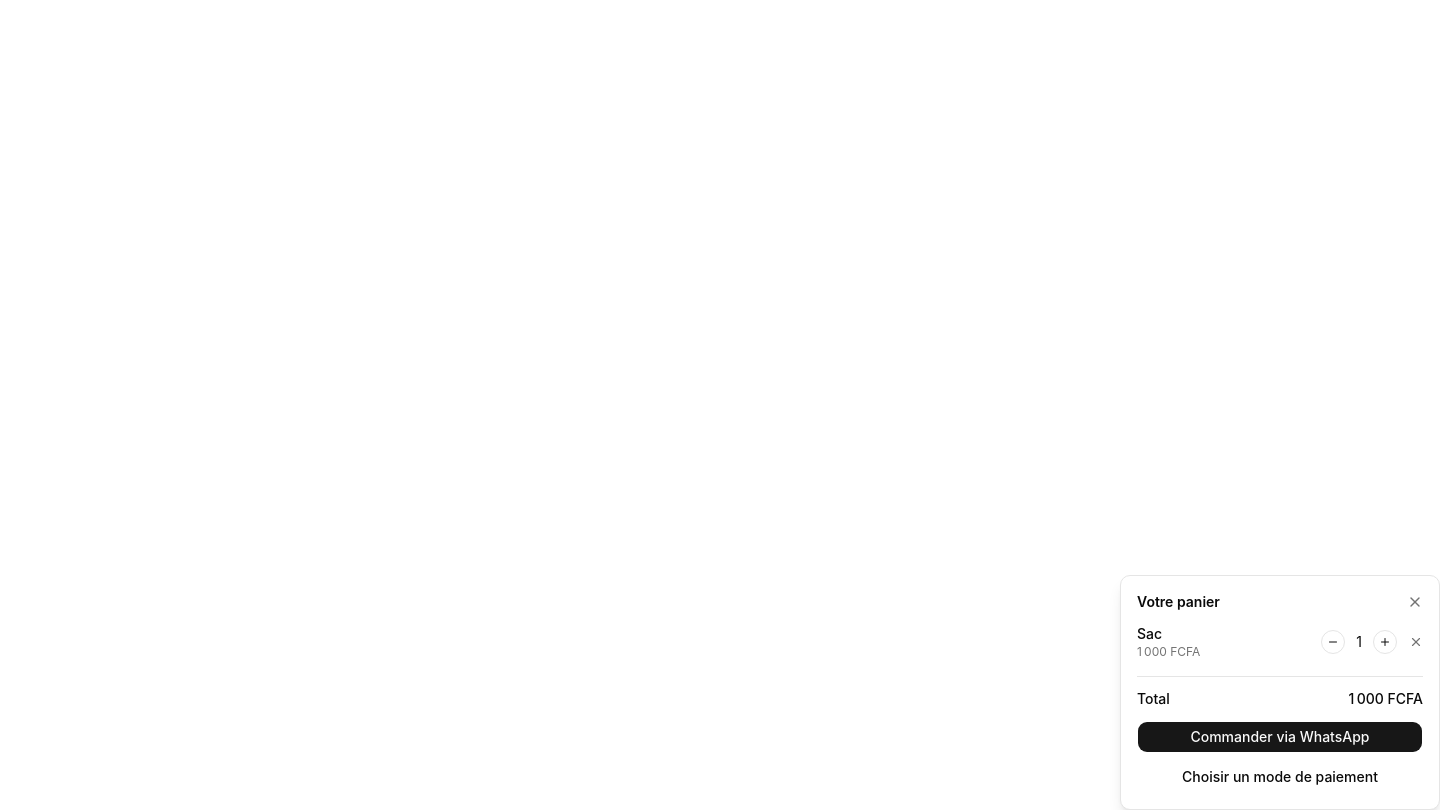
it: CartPanel › choisir un mode de paiement sans être connecté › shows a login-required warning instead of navigating
(page scrolled)
Click the button "Choisir un mode de paiement".
click(1280, 777)  # box [1137,761,1423,793]
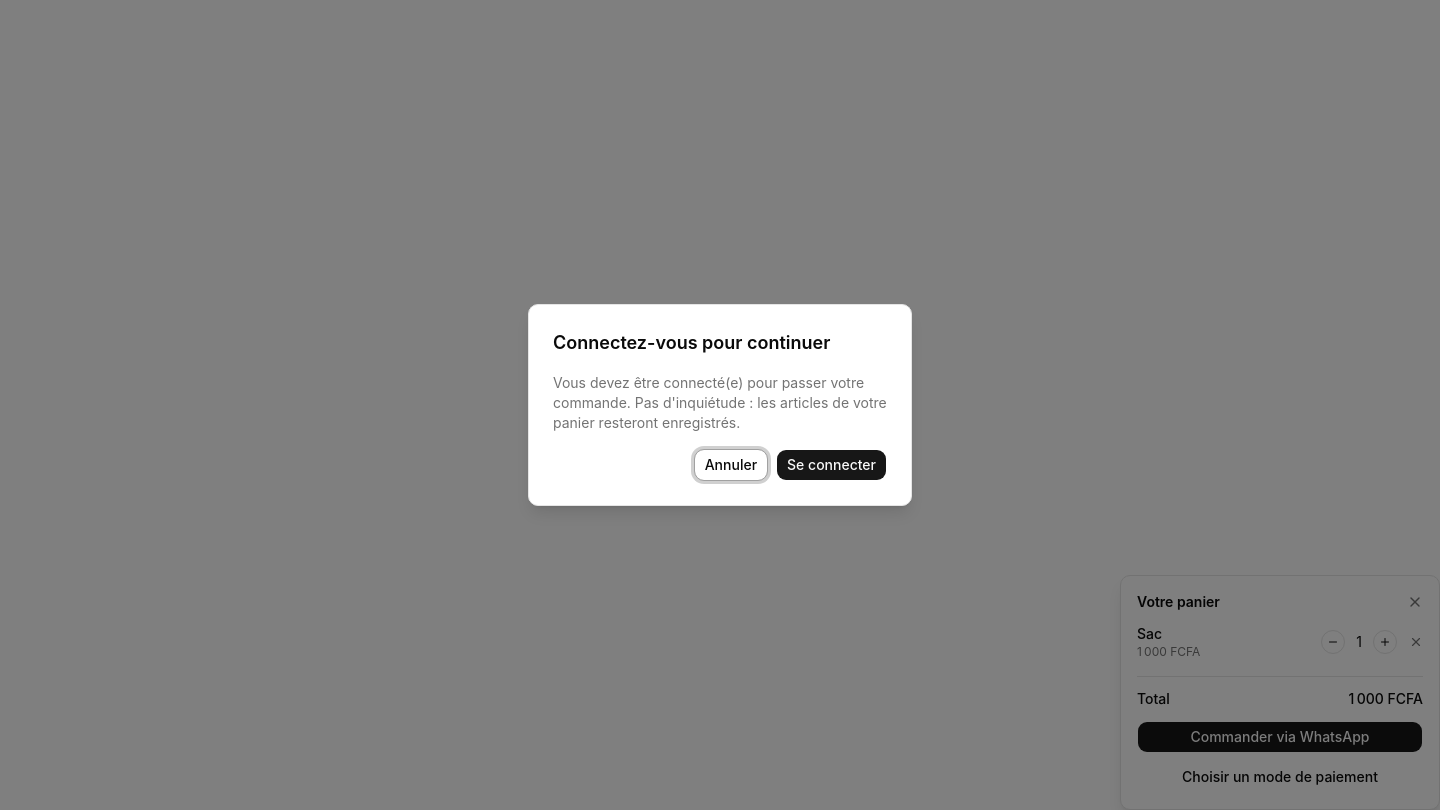
expect the heading "Connectez-vous pour continuer" is shown: met, box [553,332,830,353]
expect the text "les articles de votre panier resteront enregistrés" is shown: met, box [553,374,887,431]
